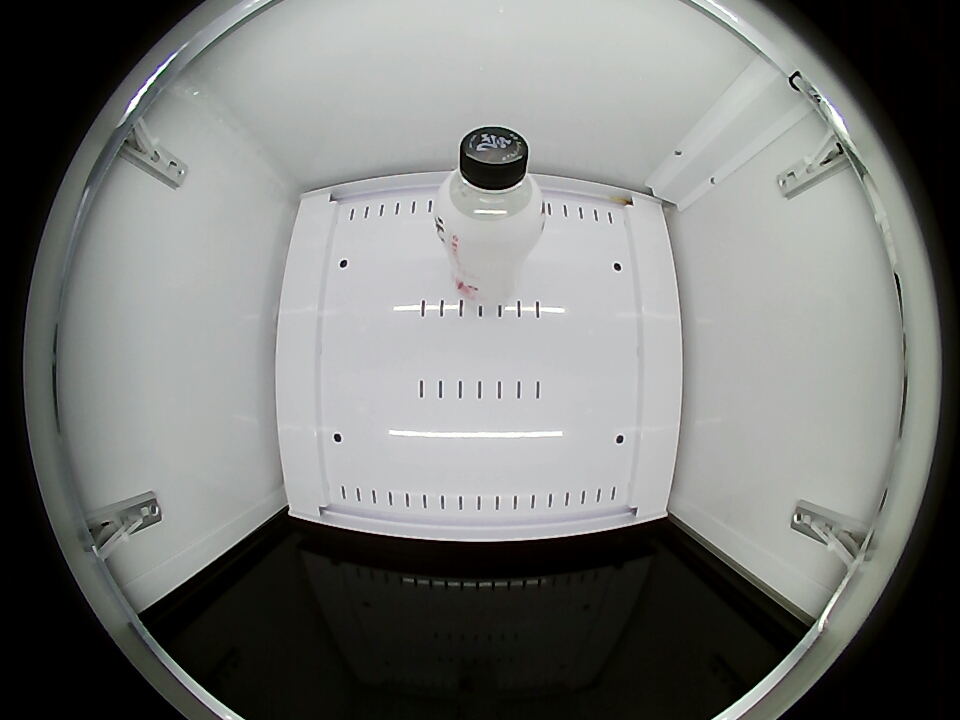yuanqishui: (433, 127, 545, 251)
